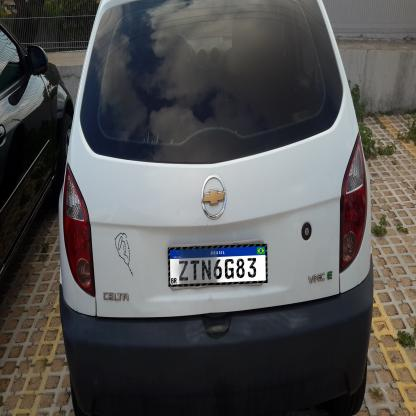PlacaM: (168, 244, 268, 287)
